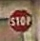stop: (8, 7, 33, 32)
